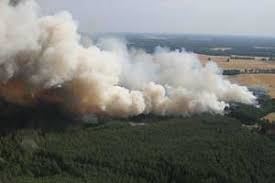smoke: (1, 1, 262, 122)
